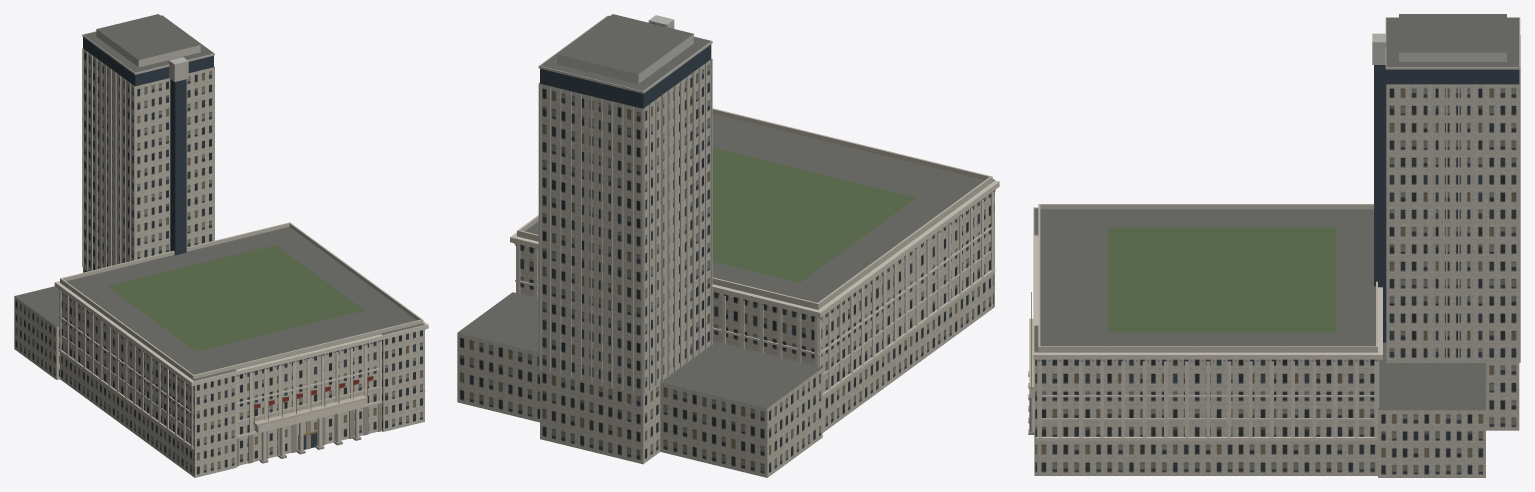
Rendered from fairmont_sf.glb.
3 renders of one model, left to right at view 1: azimuth 30°, elevation 25°; view 2: azimuth 150°, elevation 25°; view 3: azimuth 270°, elevation 25°, orthographic. The views are drawn at different scales.
Parts seen in each view (by area): view 1: fairmont_sf; view 2: fairmont_sf; view 3: fairmont_sf.
Boxes of the visible parts, bbox=[...] form: fairmont_sf: bbox=[14, 14, 428, 477]; fairmont_sf: bbox=[457, 14, 999, 477]; fairmont_sf: bbox=[1028, 14, 1520, 477].
Size of the model in its own units: 84 by 99 by 118.
2 materials, 2 textured.
